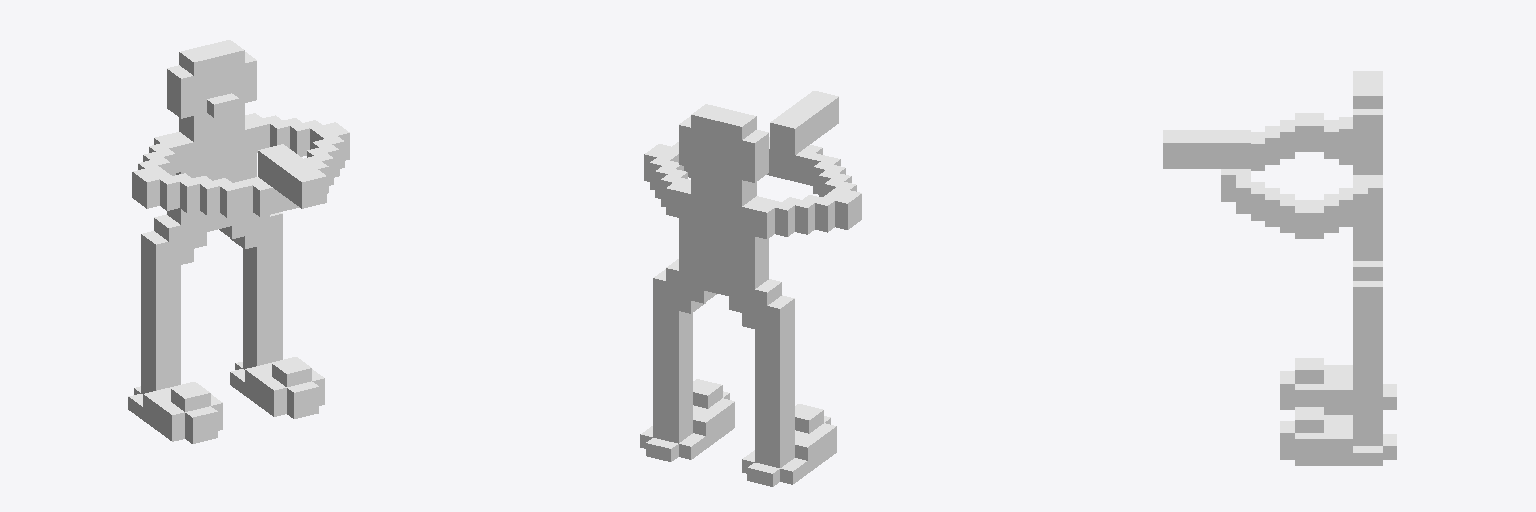
File: Moderfuker.obj
The picture shows the model from 3 angles: view 1: azimuth 30°, elevation 25°; view 2: azimuth 150°, elevation 25°; view 3: azimuth 270°, elevation 25°; orthographic projection.
Visible parts, largest first — view 1: object 1; view 2: object 1; view 3: object 1.
Boxes of the visible parts, x1,y1,x2,y2 form: object 1: [128, 40, 349, 443]; object 1: [640, 91, 861, 486]; object 1: [1163, 71, 1396, 465].
Size of the model in its own units: 1.6 by 2.6 by 1.6.